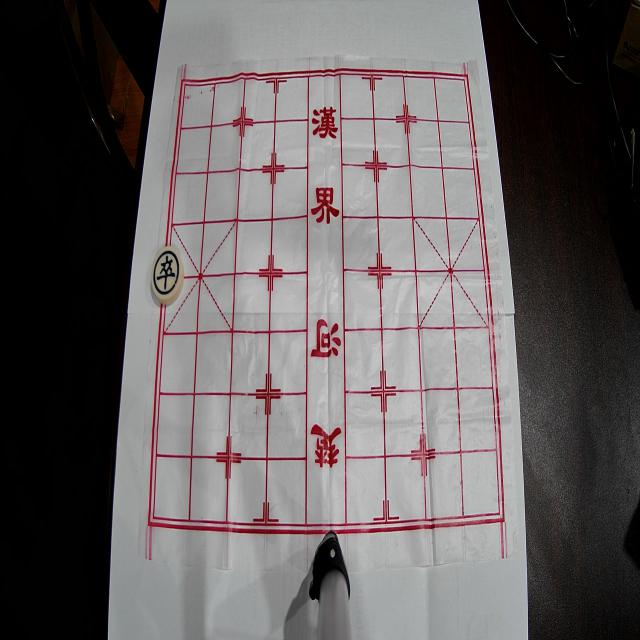black-soldier: (152, 246, 184, 305)
